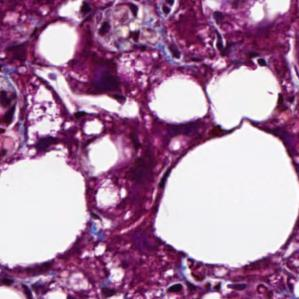inflammation: (81, 0, 180, 54), (190, 13, 246, 66), (0, 67, 37, 139), (156, 270, 238, 299)
